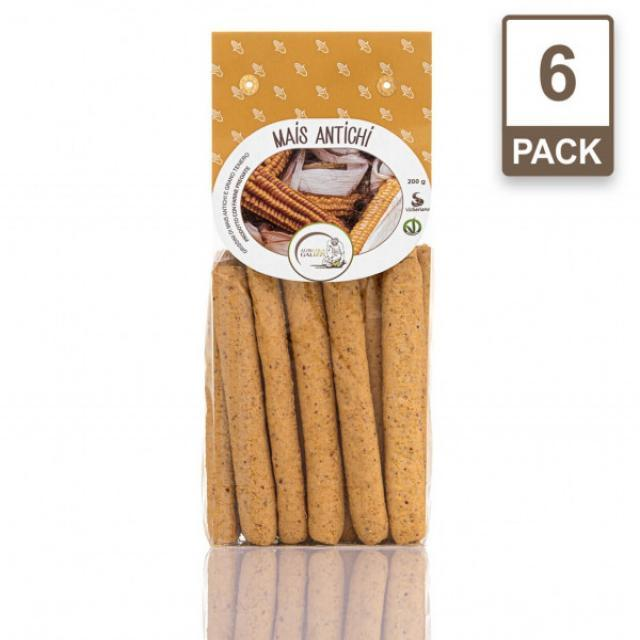Grissini: (208, 284, 418, 540)
